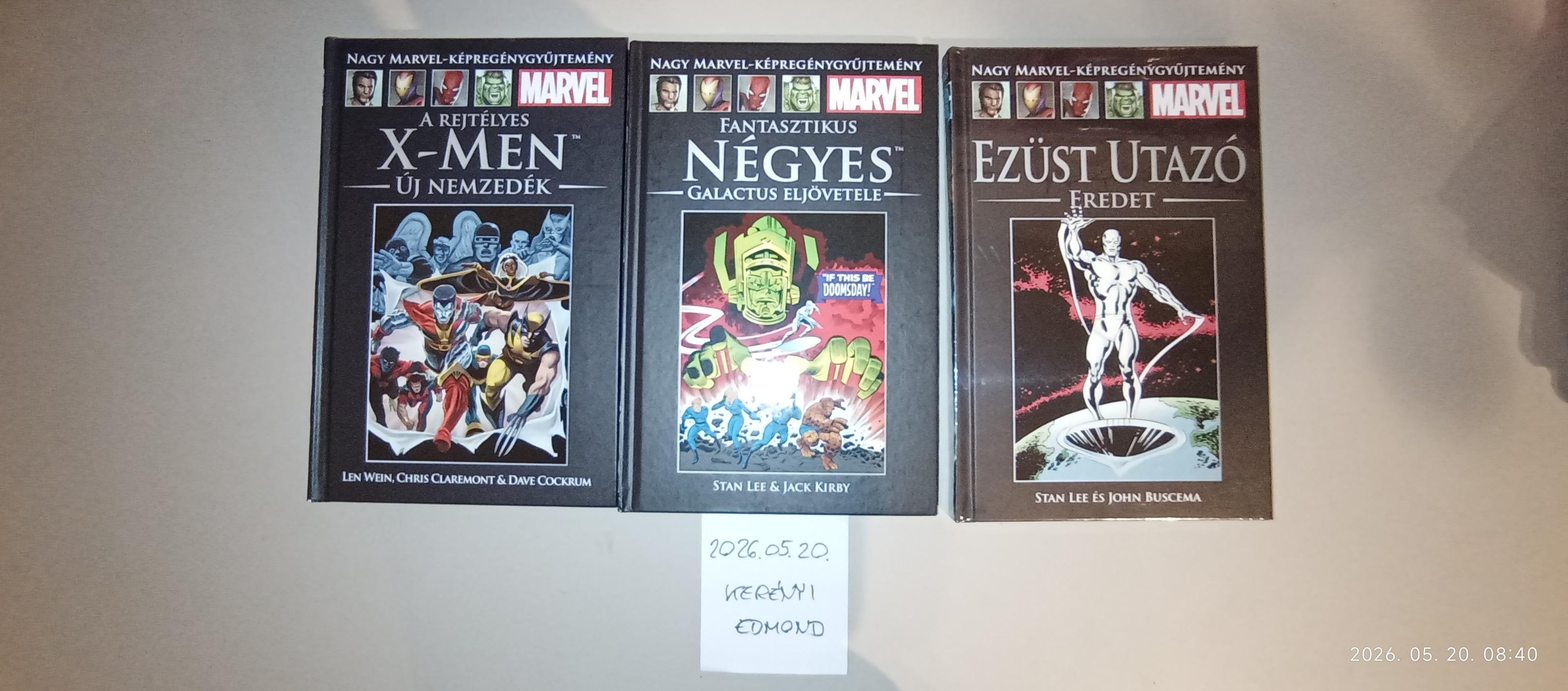comic: (947, 43, 1271, 523), (621, 41, 943, 514), (309, 33, 626, 506)
